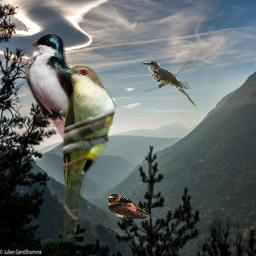Cuckoo: (57, 65, 117, 242), (143, 61, 196, 106)
Swallow: (24, 32, 98, 151), (107, 193, 152, 220)
